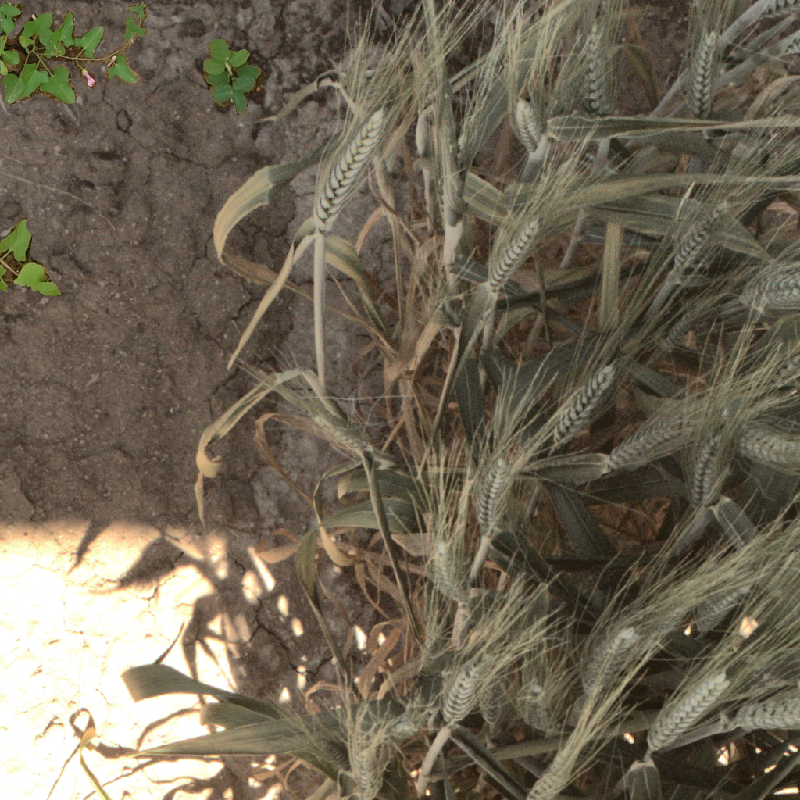spikelet: (309, 109, 384, 232), (645, 667, 731, 753), (548, 361, 618, 445), (668, 196, 733, 274), (604, 413, 683, 473), (446, 99, 480, 223), (579, 622, 637, 694), (484, 215, 542, 287), (520, 737, 581, 799), (736, 259, 800, 316), (686, 27, 724, 114), (734, 422, 800, 472), (576, 25, 613, 112), (732, 687, 799, 734), (415, 21, 450, 109), (692, 580, 750, 632), (475, 454, 511, 536), (688, 432, 724, 508), (441, 660, 482, 725), (427, 537, 465, 600), (315, 416, 371, 456), (347, 731, 379, 800), (513, 678, 553, 732), (511, 96, 544, 156), (764, 1, 800, 23)
weed: (1, 1, 148, 105), (1, 216, 64, 302), (203, 39, 263, 115)
